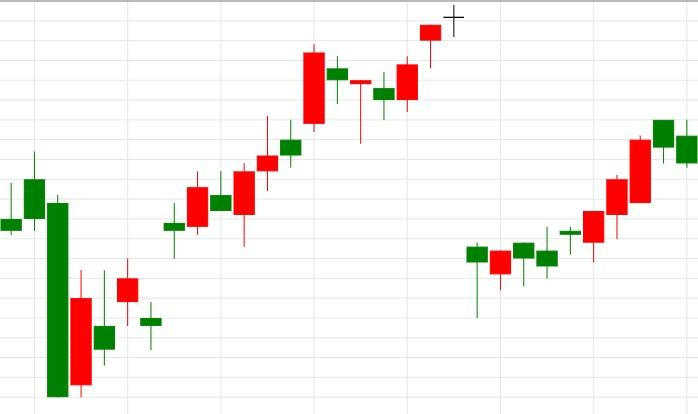hammer_rise: (419, 5, 489, 319)
